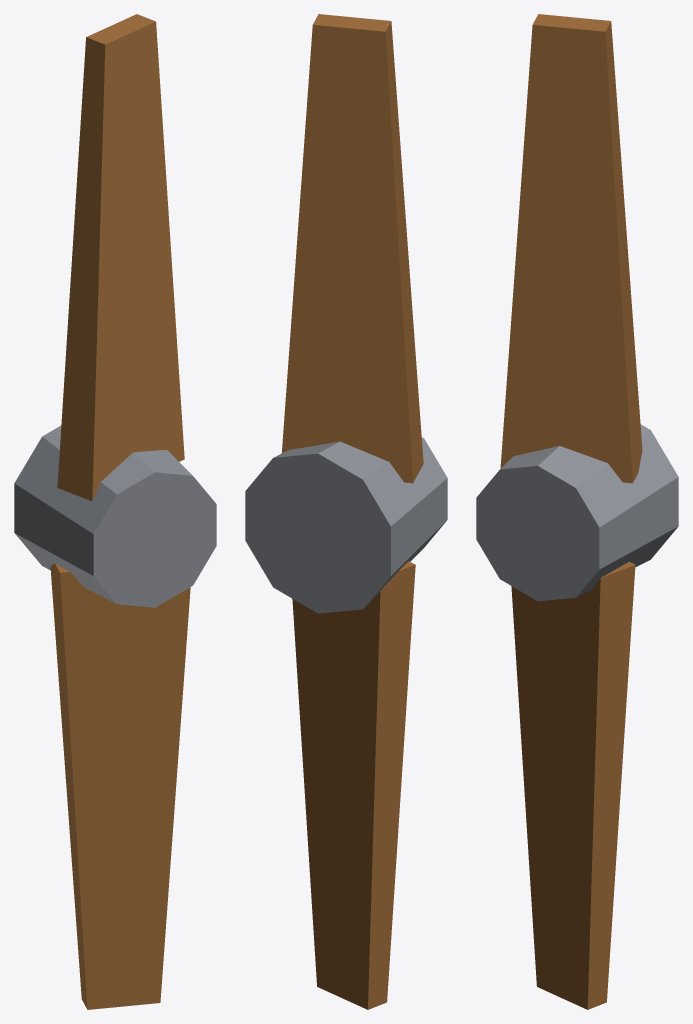
Rendered from propeller.glb.
3 views of the same model, side by side, from view 1: azimuth 30°, elevation 25°; view 2: azimuth 150°, elevation 25°; view 3: azimuth 330°, elevation 25° (orthographic).
Parts seen in each view (by area): view 1: prop_blade_1, prop_blade_0, prop_hub; view 2: prop_blade_0, prop_blade_1, prop_hub; view 3: prop_blade_0, prop_blade_1, prop_hub.
Boxes of the visible parts, bbox=[...] form: prop_blade_1: bbox=[50, 563, 190, 1009]; prop_blade_0: bbox=[57, 14, 184, 501]; prop_hub: bbox=[14, 425, 216, 607]; prop_blade_0: bbox=[282, 14, 423, 483]; prop_blade_1: bbox=[292, 561, 415, 1009]; prop_hub: bbox=[245, 437, 447, 613]; prop_blade_0: bbox=[500, 14, 642, 483]; prop_blade_1: bbox=[511, 561, 635, 1009]; prop_hub: bbox=[476, 424, 678, 601].
Bounding box in the file's own units: 0.2473 × 1.58 × 0.2.
